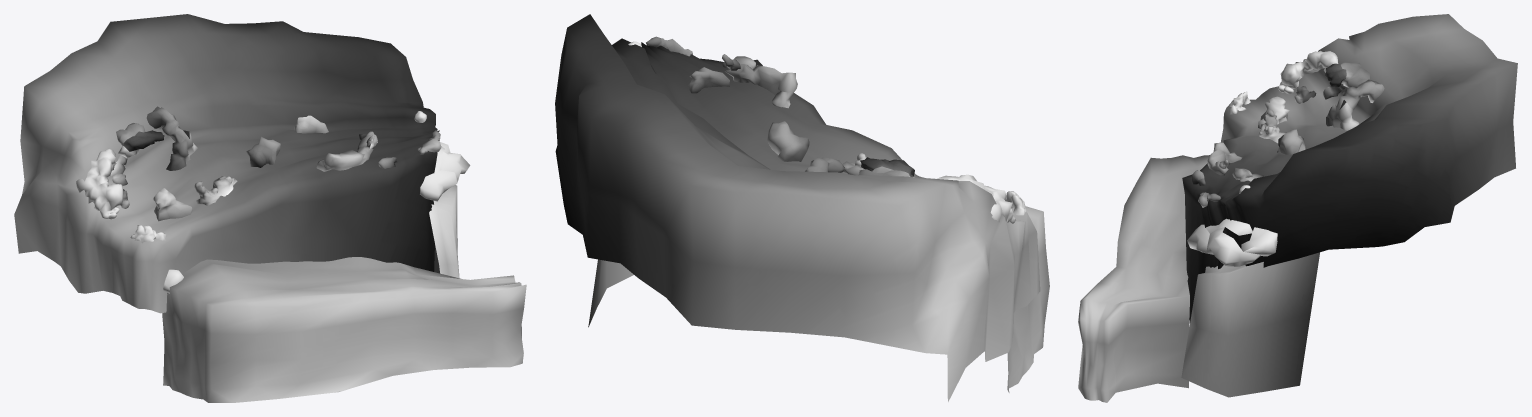
File: ColliderEnvironment.fbx
The picture shows the model from 3 angles, left to right: view 1: azimuth 30°, elevation 25°; view 2: azimuth 150°, elevation 25°; view 3: azimuth 270°, elevation 25°; orthographic projection. The views are drawn at different scales.
Parts seen in each view (by area): view 1: level1 terrain APPLY, level2 terrain apply, level3 terrain.modifier], rock 12, ROCK9, rock 10, ROCK 4, rock 7, Icosphere.320, ROCK8, rock 5, Icosphere.317 (+1 smaller); view 2: level1 terrain APPLY, level2 terrain apply, ROCK 4, rock 5, level3 terrain.modifier], rock 10, rock 12, rock 2, ROCK9; view 3: level1 terrain APPLY, level2 terrain apply, level3 terrain.modifier], ROCK9, rock 12, Icosphere.317, rock 10, Icosphere.319, ROCK 4, rock 5, rock 7, ROCK8 (+2 smaller).
Part boxes in pixels (x1,y1,x2,y2): level1 terrain APPLY: (14, 14, 439, 313); level2 terrain apply: (162, 257, 526, 402); level3 terrain.modifier]: (429, 185, 459, 278); rock 12: (76, 148, 123, 219); ROCK9: (146, 106, 197, 170); rock 10: (116, 123, 164, 158); ROCK 4: (316, 146, 373, 171); rock 7: (152, 188, 192, 221); Icosphere.320: (420, 170, 458, 201); ROCK8: (194, 176, 237, 205); rock 5: (246, 136, 280, 167); Icosphere.317: (441, 151, 470, 179); level1 terrain APPLY: (555, 14, 1040, 401); level2 terrain apply: (920, 176, 1049, 392); ROCK 4: (725, 64, 797, 108); rock 5: (767, 121, 809, 161); level3 terrain.modifier]: (588, 259, 633, 327); rock 10: (858, 157, 914, 177); rock 12: (937, 174, 1015, 223); rock 2: (688, 67, 729, 93); ROCK9: (805, 157, 844, 172); level1 terrain APPLY: (1182, 14, 1517, 323); level2 terrain apply: (1078, 155, 1209, 402); level3 terrain.modifier]: (1181, 252, 1319, 397); ROCK9: (1326, 79, 1384, 130); rock 12: (1277, 50, 1338, 94); Icosphere.317: (1206, 227, 1260, 266); rock 10: (1325, 62, 1369, 87); Icosphere.319: (1241, 227, 1277, 256); ROCK 4: (1207, 142, 1242, 175); rock 5: (1277, 129, 1305, 154); rock 7: (1258, 96, 1289, 128); ROCK8: (1259, 110, 1286, 143).
Bounding box in the file's own units: 12053 × 8351 × 12602.
